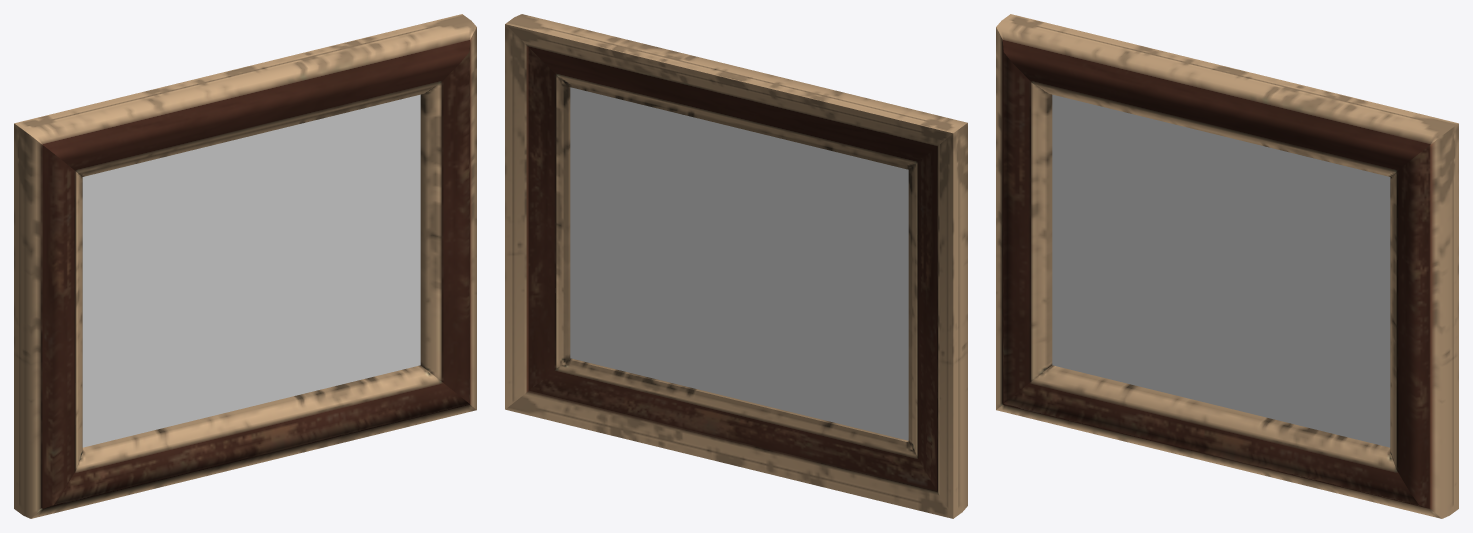
Rendered from Mirror_Small_Framed.FBX.
3 views of the same model, side by side, from view 1: azimuth 30°, elevation 25°; view 2: azimuth 150°, elevation 25°; view 3: azimuth 330°, elevation 25° (orthographic).
Parts seen in each view (by area): view 1: Mirror_Small_Framed; view 2: Mirror_Small_Framed; view 3: Mirror_Small_Framed.
Part boxes in pixels (x1,y1,x2,y2): Mirror_Small_Framed: (14,14,476,518); Mirror_Small_Framed: (505,14,967,518); Mirror_Small_Framed: (996,14,1458,518).
Size of the model in its own units: 49.8 by 40.94 by 4.5.
